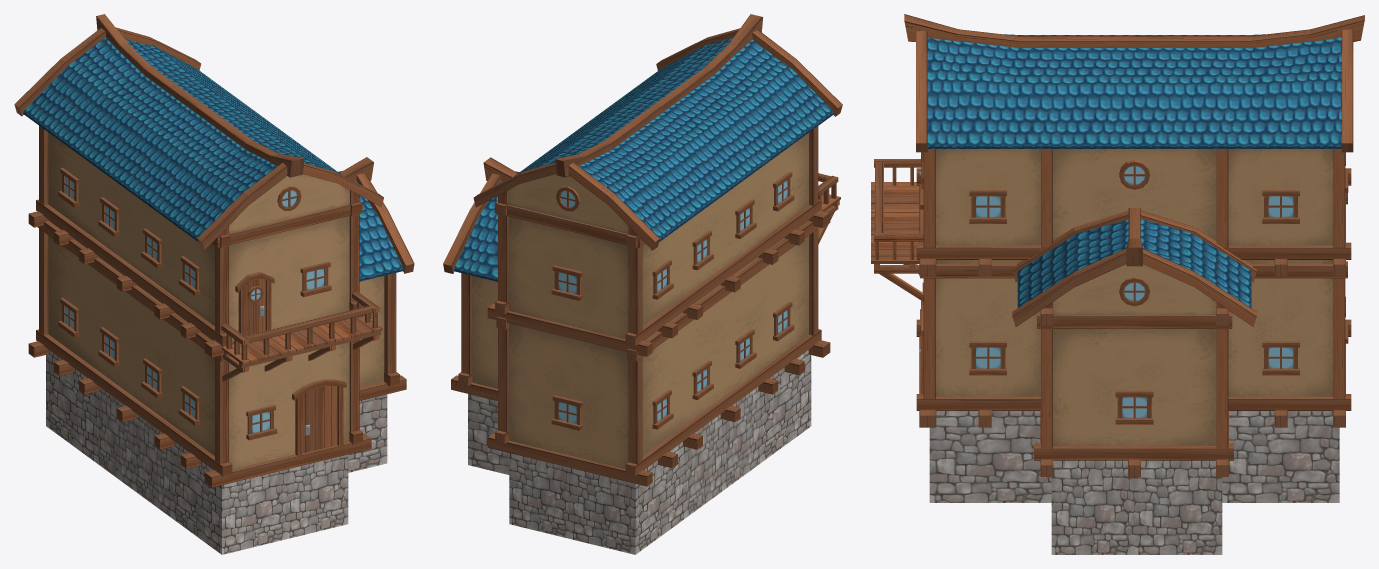
The model's file is house_town_blue_3.glb.
The picture shows the model from 3 angles, left to right: view 1: azimuth 30°, elevation 25°; view 2: azimuth 150°, elevation 25°; view 3: azimuth 270°, elevation 25°; orthographic projection. The views are drawn at different scales.
Visible parts, largest first — view 1: house_town_blue_3; view 2: house_town_blue_3; view 3: house_town_blue_3.
Boxes of the visible parts, x1,y1,x2,y2 form: house_town_blue_3: (14,14,414,554); house_town_blue_3: (443,14,842,554); house_town_blue_3: (871,14,1364,554).
Size of the model in its own units: 12.04 by 16.99 by 16.86.
Materials: 1 (1 with a texture image).
